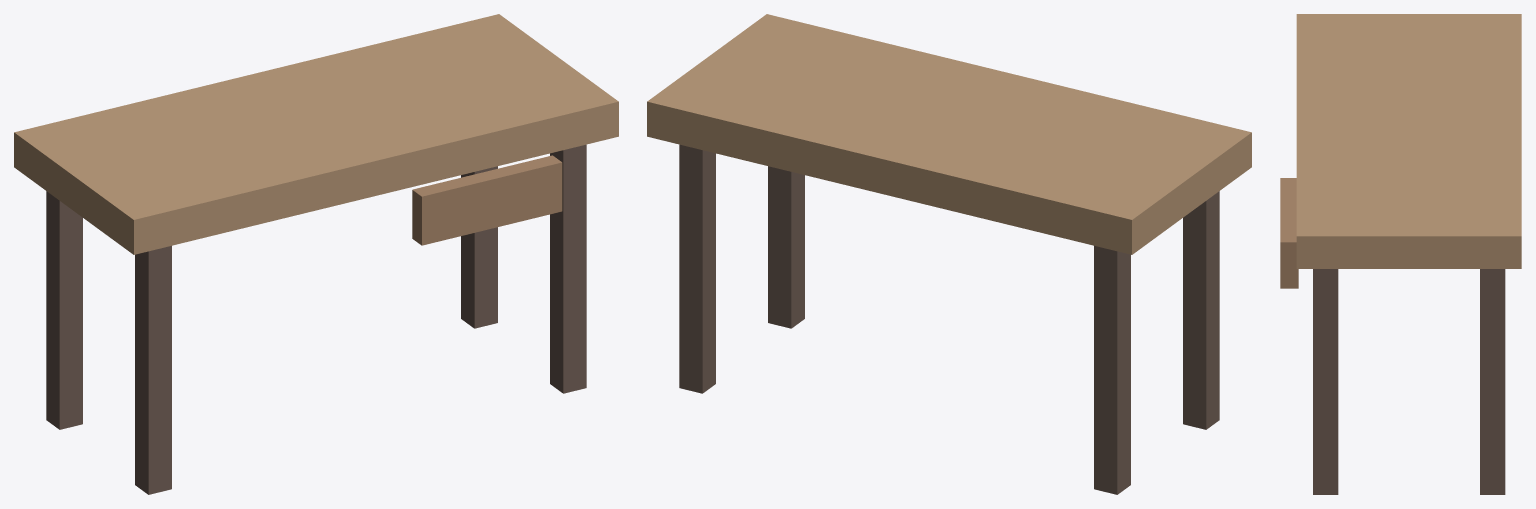
File: desk.glb
3 renders of one model, left to right at view 1: azimuth 30°, elevation 25°; view 2: azimuth 150°, elevation 25°; view 3: azimuth 270°, elevation 25°, orthographic. The views are drawn at different scales.
Parts seen in each view (by area): view 1: Top, Leg_1, Drawer, Leg_3, Leg_0, Leg_2; view 2: Top, Leg_2, Leg_0, Leg_1, Leg_3; view 3: Top, Leg_2, Leg_3, Drawer.
Boxes of the visible parts, left/top/right/bottom form: Top: left=14, top=14, right=618, bottom=254; Leg_1: left=135, top=245, right=171, bottom=494; Drawer: left=412, top=155, right=562, bottom=245; Leg_3: left=550, top=144, right=586, bottom=393; Leg_0: left=46, top=191, right=82, bottom=429; Leg_2: left=461, top=166, right=497, bottom=328; Top: left=647, top=14, right=1251, bottom=254; Leg_2: left=679, top=144, right=715, bottom=393; Leg_0: left=1094, top=245, right=1130, bottom=494; Leg_1: left=1183, top=191, right=1219, bottom=429; Leg_3: left=768, top=166, right=804, bottom=328; Top: left=1296, top=14, right=1521, bottom=268; Leg_2: left=1480, top=269, right=1505, bottom=494; Leg_3: left=1313, top=269, right=1338, bottom=494; Drawer: left=1280, top=178, right=1298, bottom=288.
Bounding box in the file's own units: 1.45 × 0.82 × 0.665.
